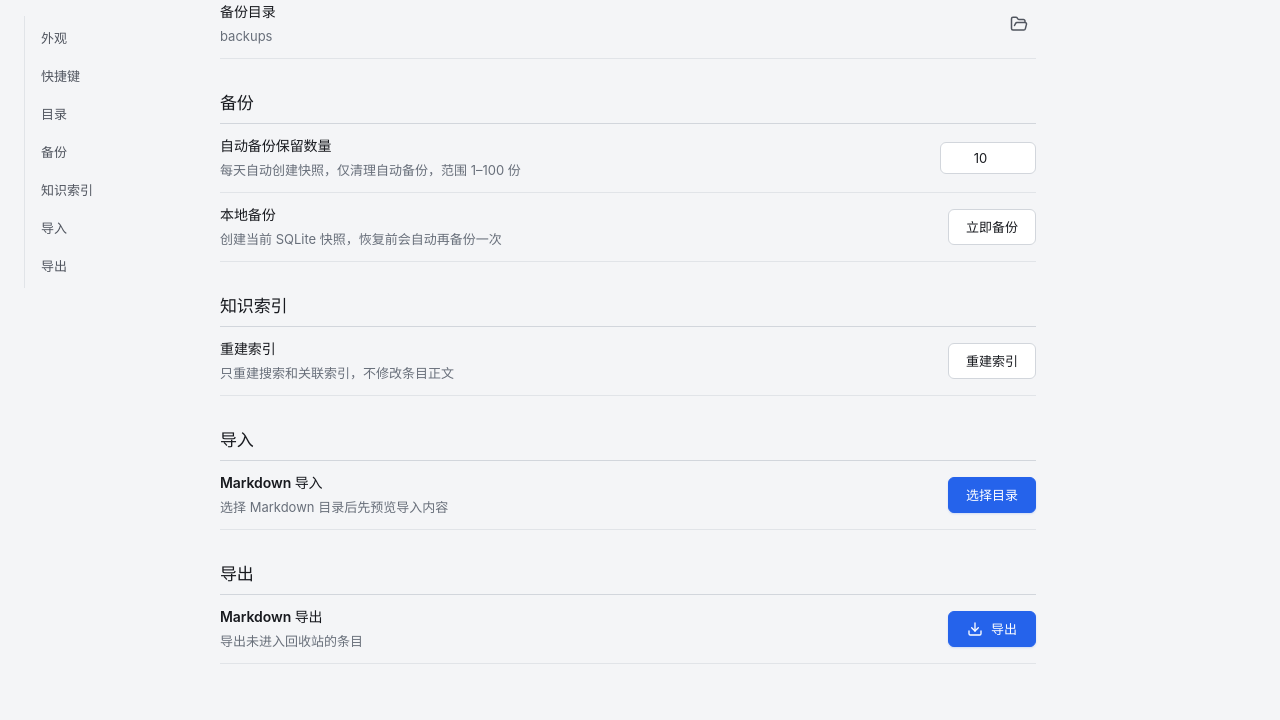
Scenario: SettingsView › shows all rebuild statistics and the no-content-change explanation
The image size is (1280, 720).
(page scrolled)
Step 1. Click the button with aria-label "重建知识索引" → (992, 361), box [948,343,1036,379]
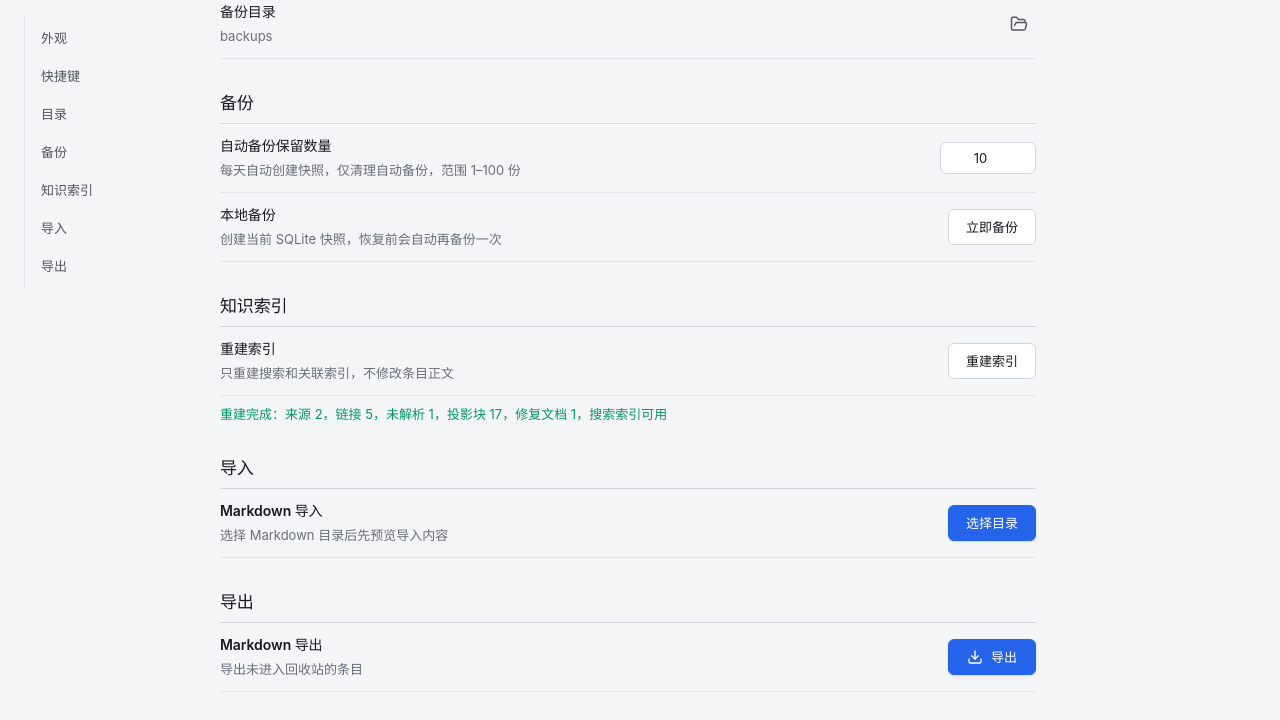
Check: the text "来源 2" is shown, box [220,406,667,422]
Check: the text "链接 5" is shown, box [220,406,667,422]
Check: the text "未解析 1" is shown, box [220,406,667,422]
